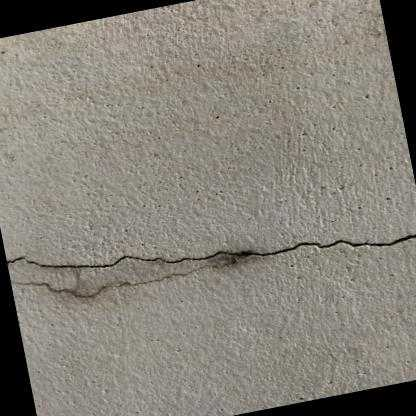crack: (7, 232, 416, 267)
